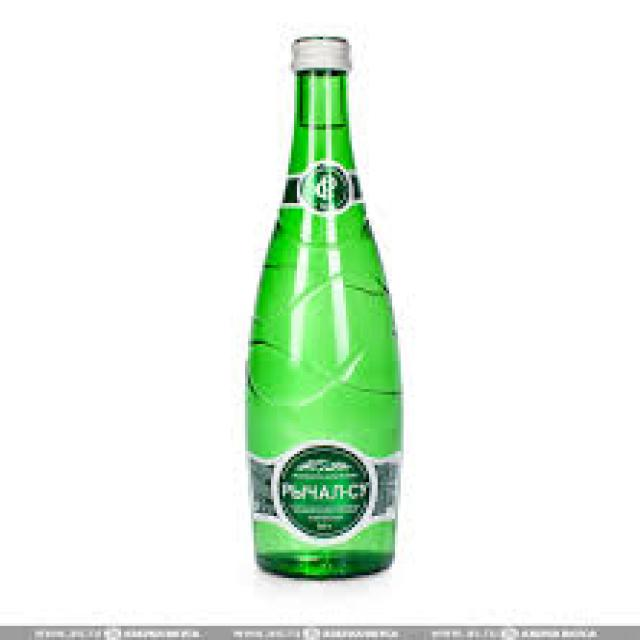glass: (245, 68, 398, 578)
metal: (288, 34, 349, 65)
